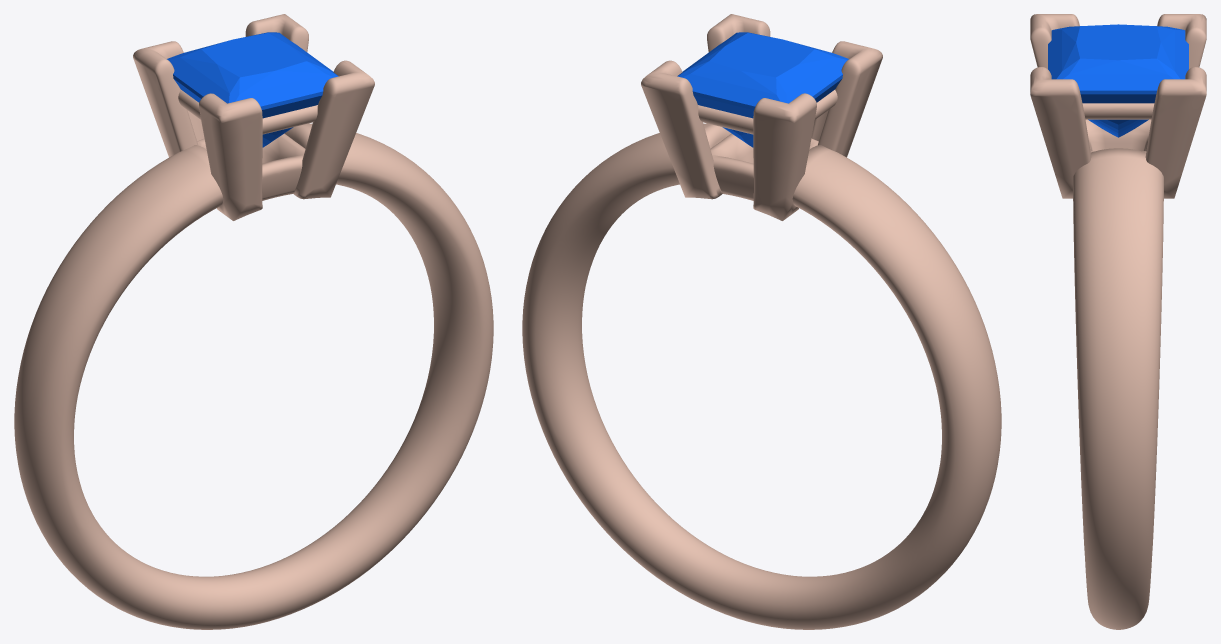
File: bluesapphire-princess-rosegold-protectededges4prongs-taperedband-solitaire.glb
3 views of the same model, side by side, from view 1: azimuth 30°, elevation 25°; view 2: azimuth 150°, elevation 25°; view 3: azimuth 270°, elevation 25° (orthographic).
Parts seen in each view (by area): view 1: metal, stone; view 2: metal, stone; view 3: metal, stone.
Boxes of the visible parts, box(x1,y1,x2,y2) form: metal: box(14, 14, 493, 629); stone: box(167, 32, 338, 147); metal: box(522, 14, 1001, 629); stone: box(677, 32, 848, 147); metal: box(1030, 14, 1206, 629); stone: box(1048, 24, 1188, 137).
Bounding box in the file's own units: 20.5 × 23.85 × 6.77.
